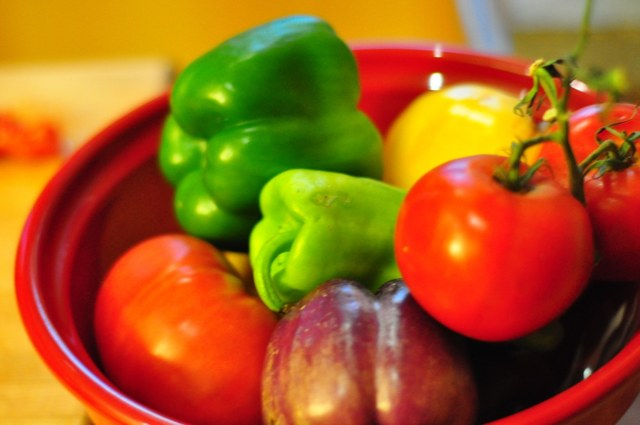tomato: (395, 155, 595, 341), (92, 233, 280, 425), (537, 102, 640, 282)
